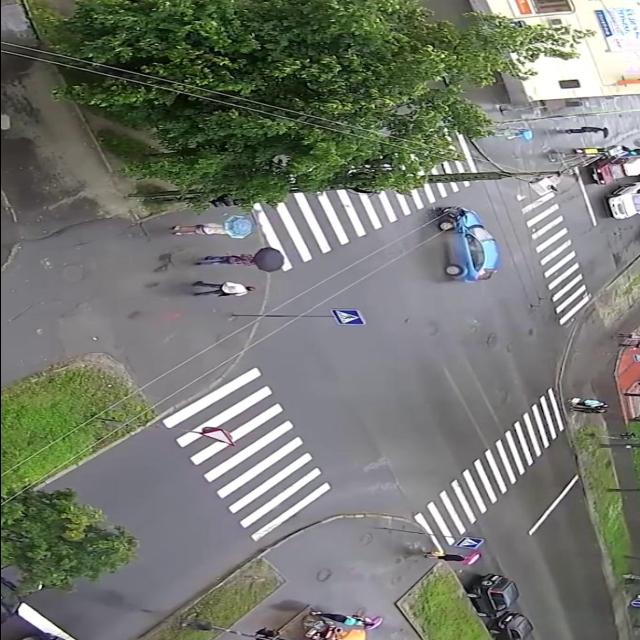accident: (415, 198, 507, 286)
